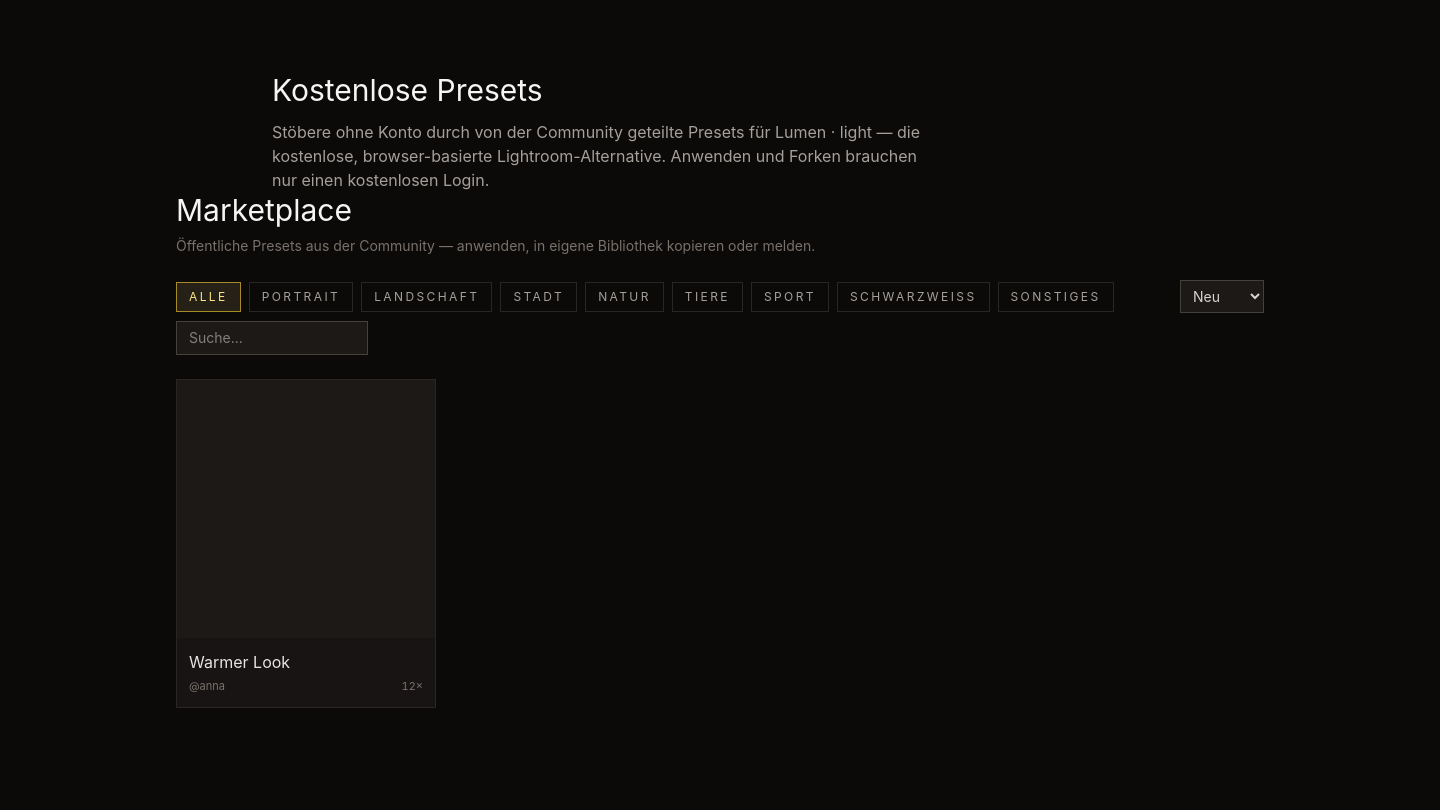
Test: Marketplace › Card-Klick oeffnet Detail-Modal
Click the button with test id "marketplace-card-p-x" at (306, 543), box [176,379,436,708]
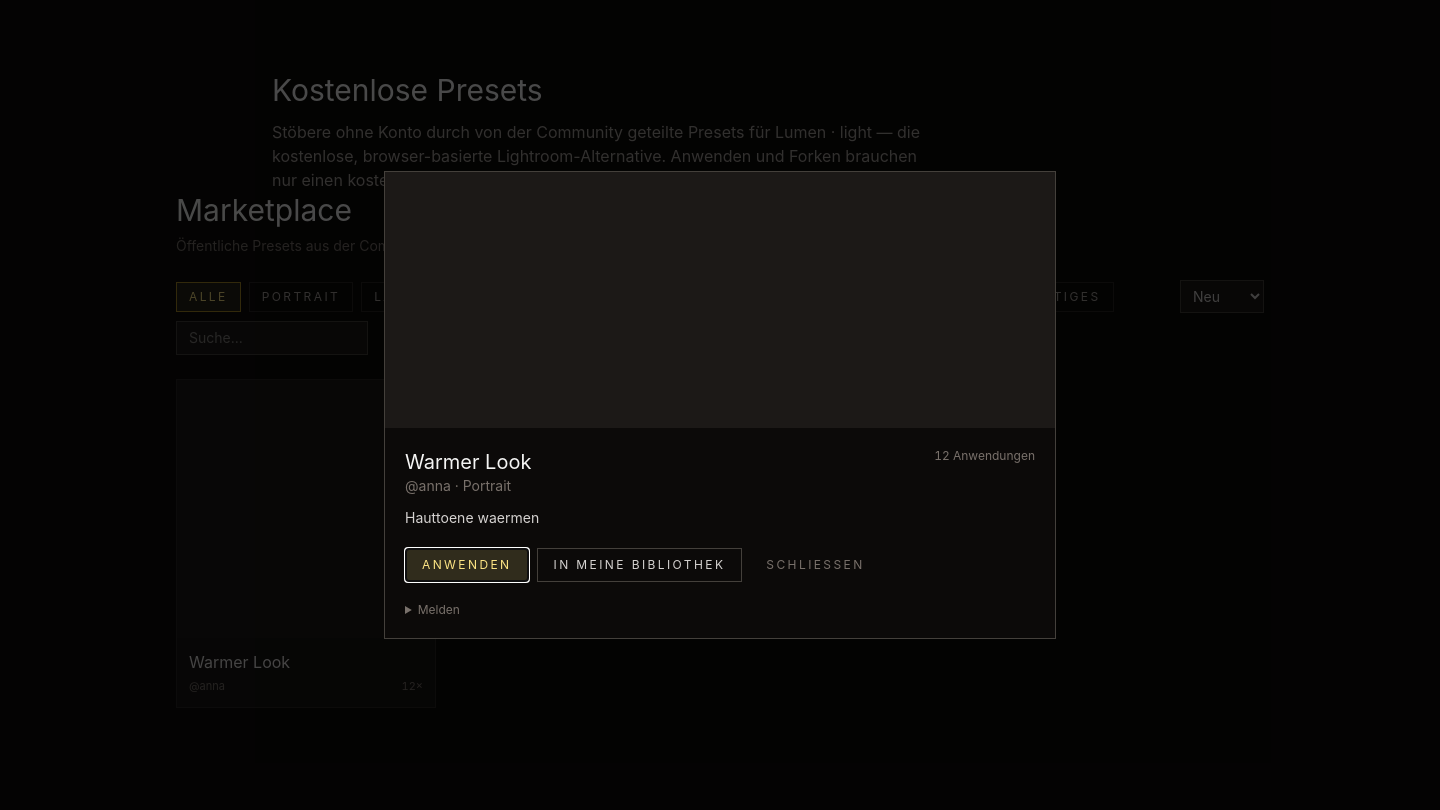
Expected: the element with test id "marketplace-detail-modal" is shown
